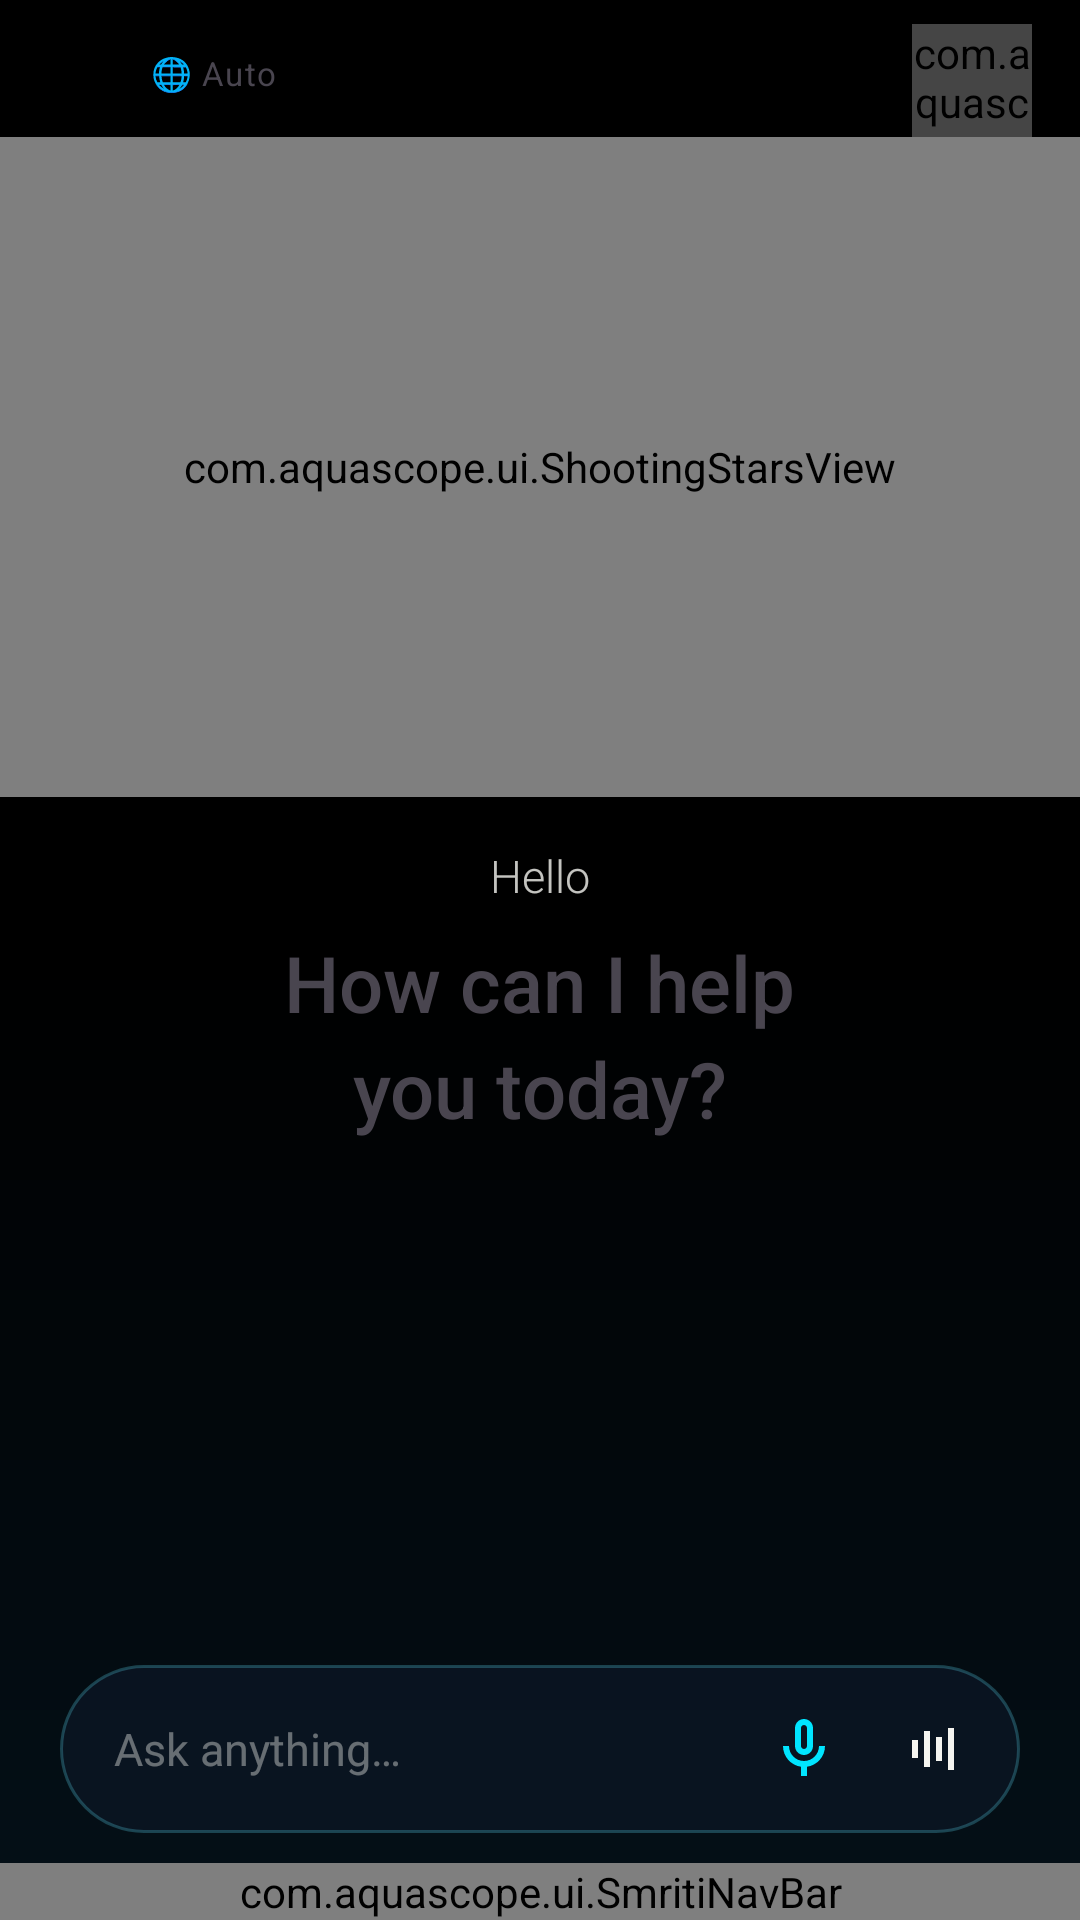

Icon click points for this 1080x1920 phone screenshot, format point (x, y):
Voice Query: point (804, 1747)
